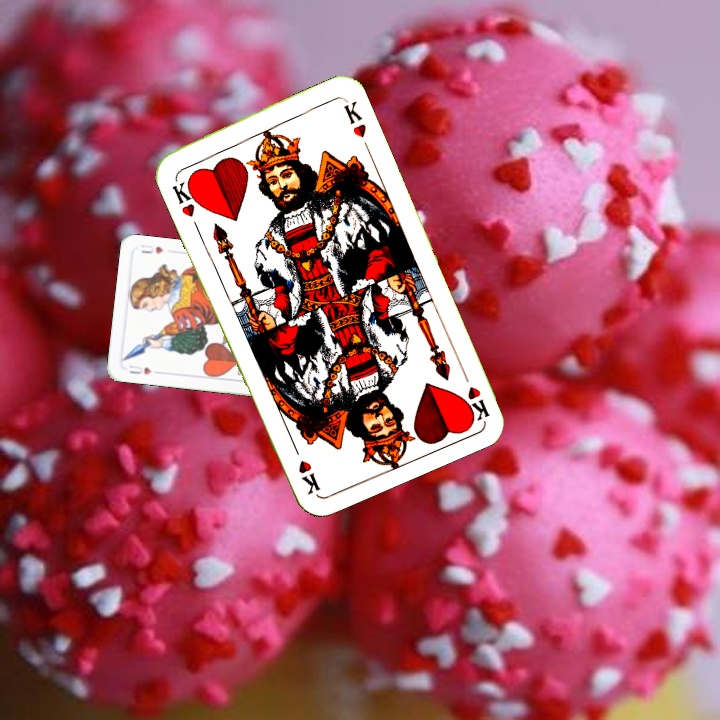HK: (457, 364, 492, 424), (168, 175, 203, 220)
HU: (125, 361, 154, 377)
